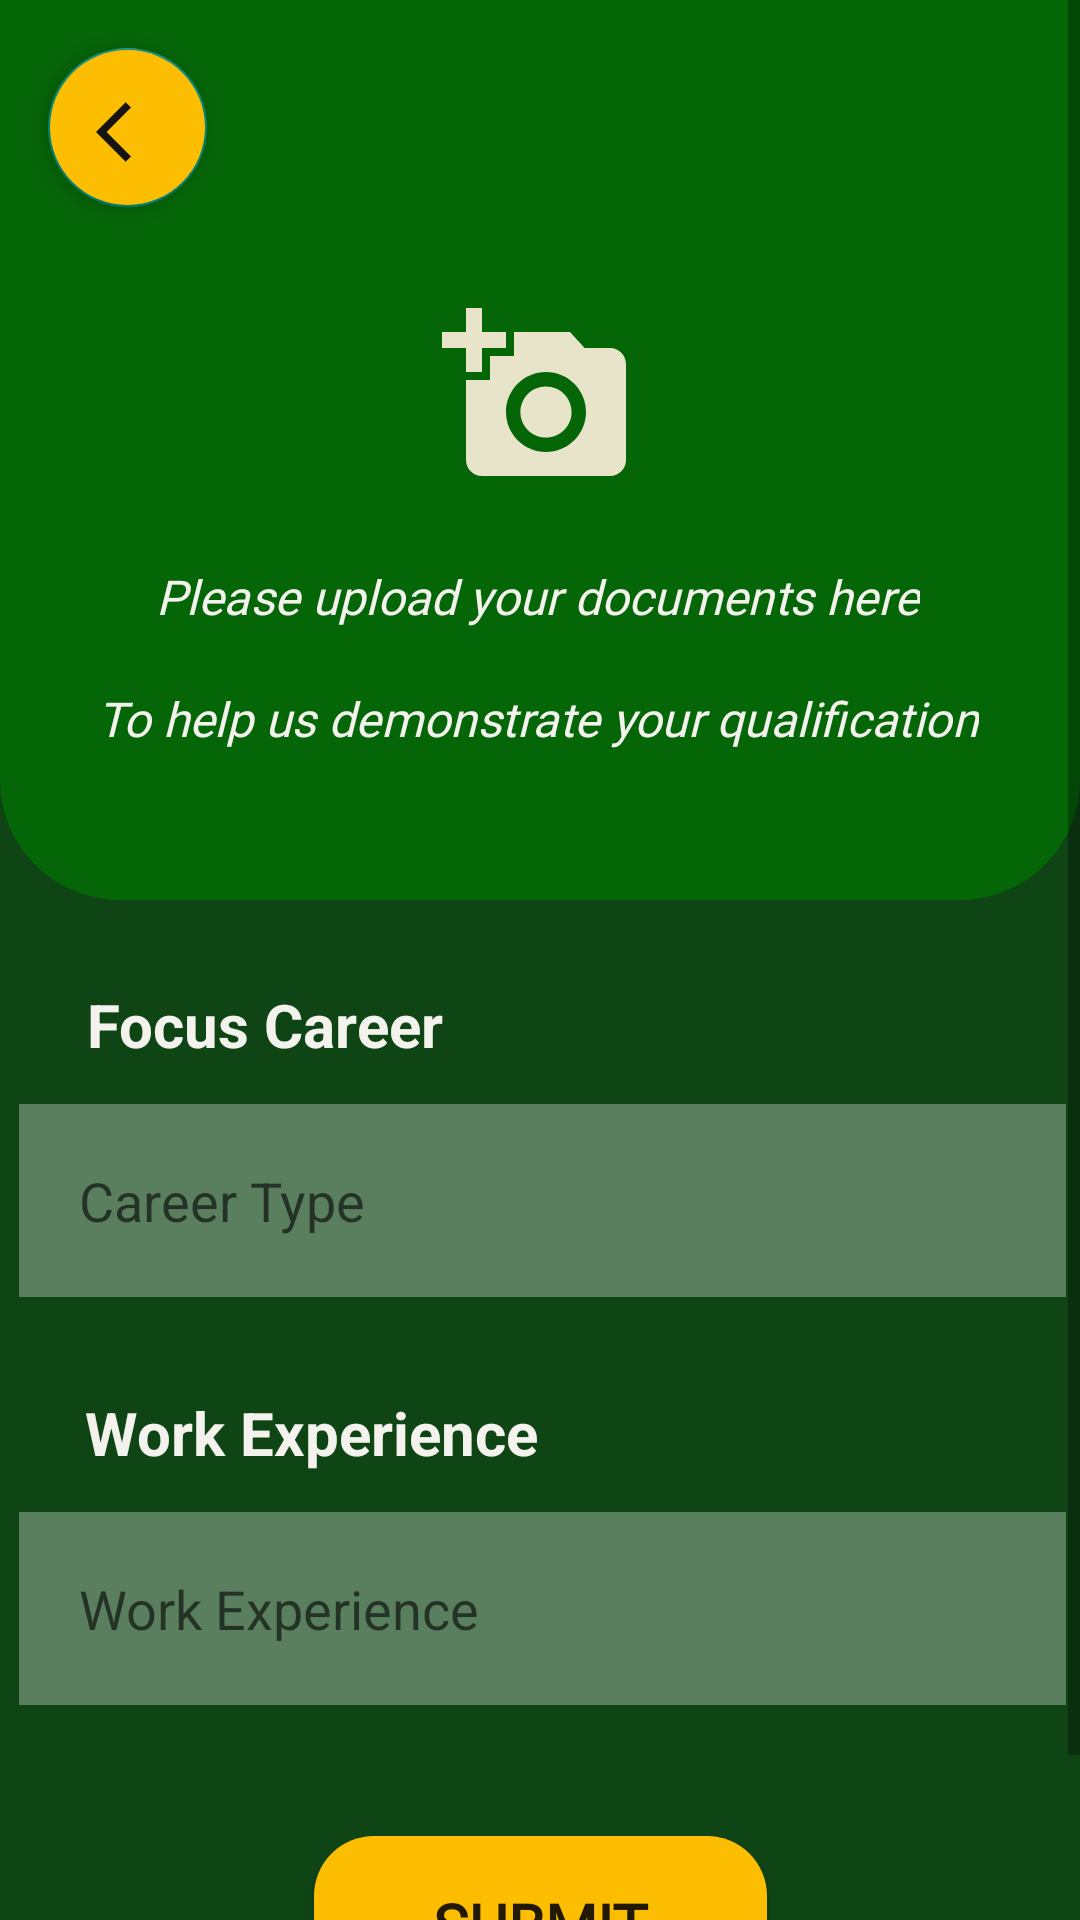

Named icons in this screenshot (1080×1920) and their bounding boxes, (x1, y1, x2, y2):
add: (442, 308, 626, 476)
